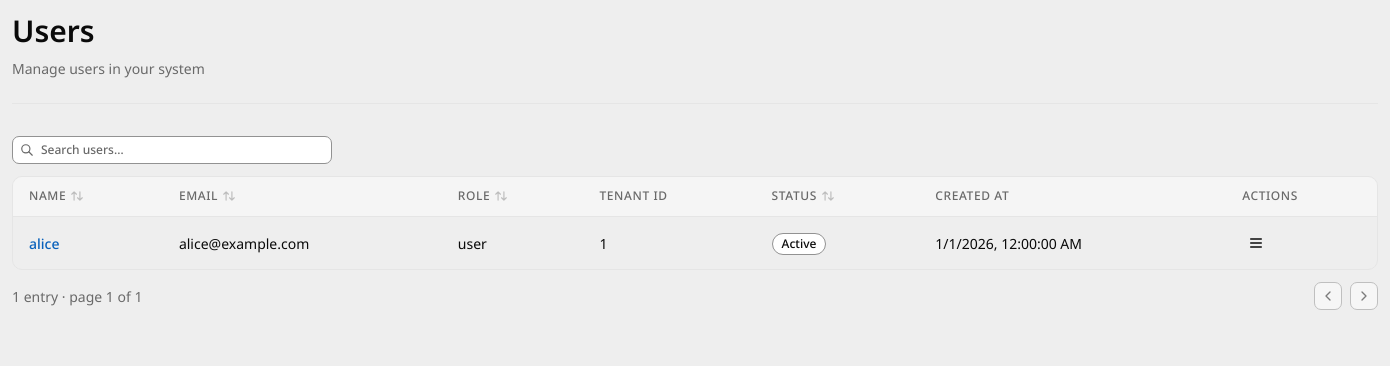
Test: UsersPage account status (WC-user-status) › hides the Deactivate/Reactivate action for a caller without users:write
Expected: the text "alice" is shown, left=29, top=232, right=60, bottom=254
Click the button named "Row actions" at [1256, 243], box left=1242, top=229, right=1270, bottom=257
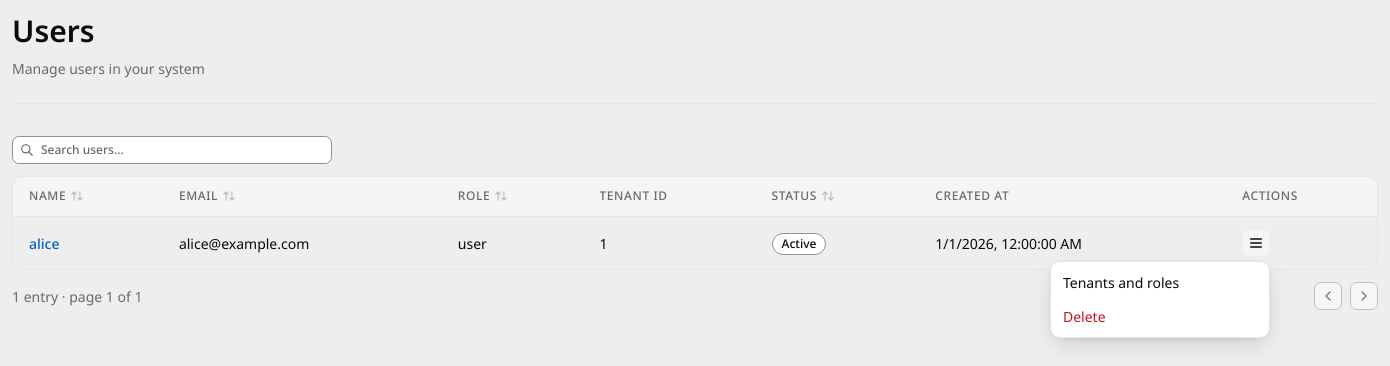
Expected: the menu item "Delete" is shown, left=1063, top=307, right=1106, bottom=326
